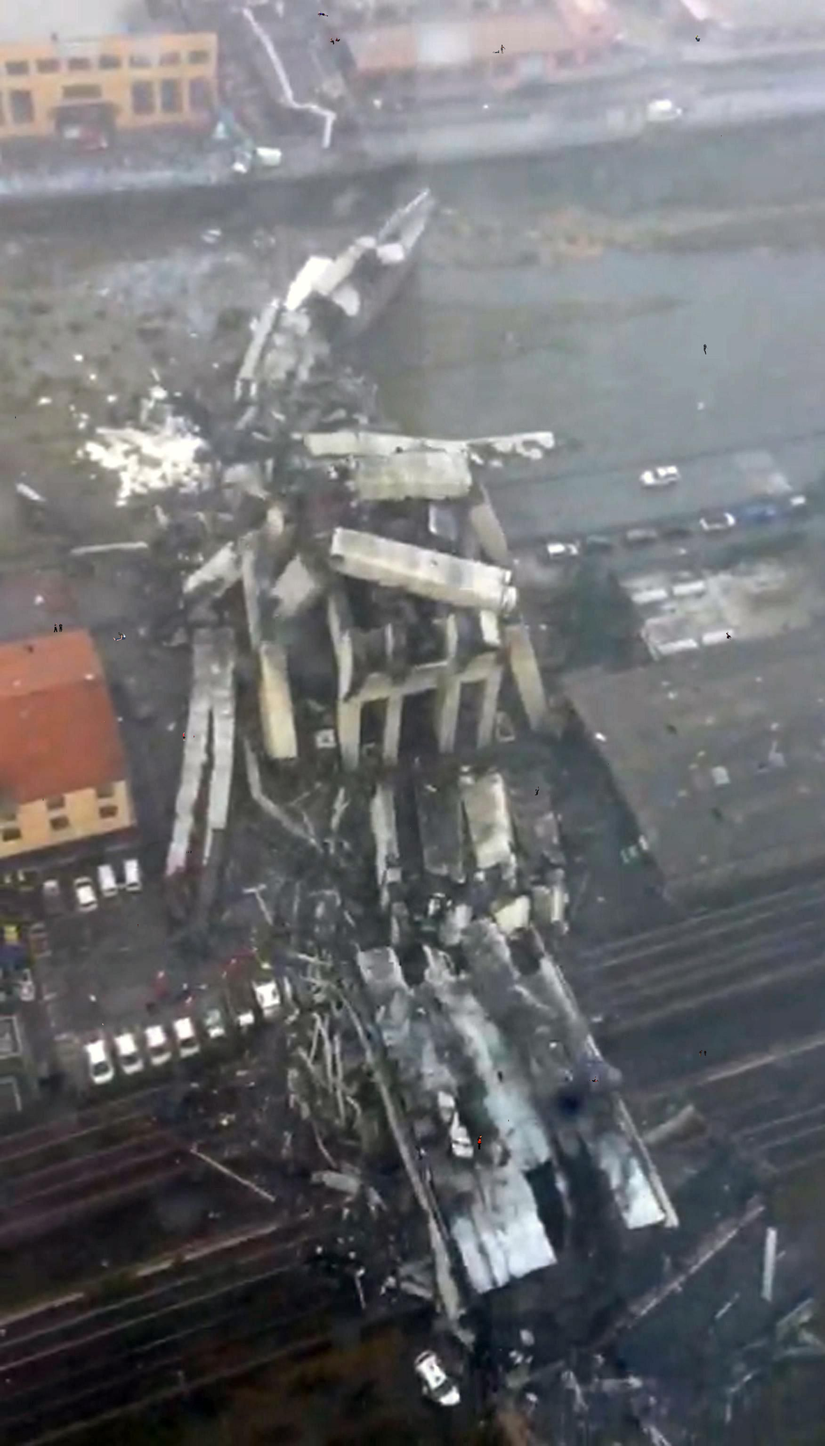Human: (113, 632, 126, 641), (183, 732, 195, 741), (493, 45, 505, 54), (54, 622, 63, 633), (330, 38, 341, 45), (477, 1135, 482, 1150), (702, 344, 709, 354), (725, 632, 733, 640), (318, 11, 328, 17), (589, 1076, 599, 1082), (699, 1050, 706, 1057), (534, 787, 539, 795), (696, 35, 700, 41), (186, 851, 192, 853), (101, 721, 106, 723), (410, 827, 413, 829), (102, 1023, 104, 1026), (42, 798, 44, 801), (137, 924, 138, 927), (508, 1119, 509, 1122), (15, 416, 16, 418), (721, 135, 722, 137), (608, 763, 609, 764)
